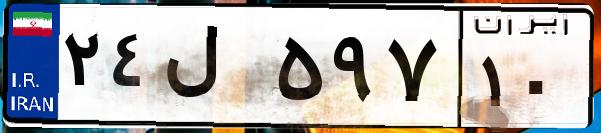0: (525, 38, 570, 115)
1: (475, 38, 525, 113)
2: (57, 26, 110, 100)
4: (110, 28, 158, 98)
5: (270, 28, 330, 110)
7: (385, 28, 445, 110)
9: (330, 28, 385, 110)
ل: (158, 20, 270, 120)
